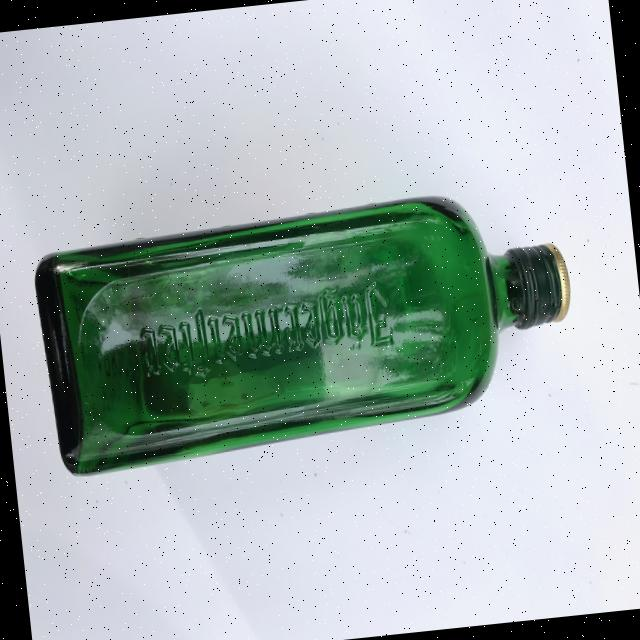glass: (29, 181, 584, 478)
